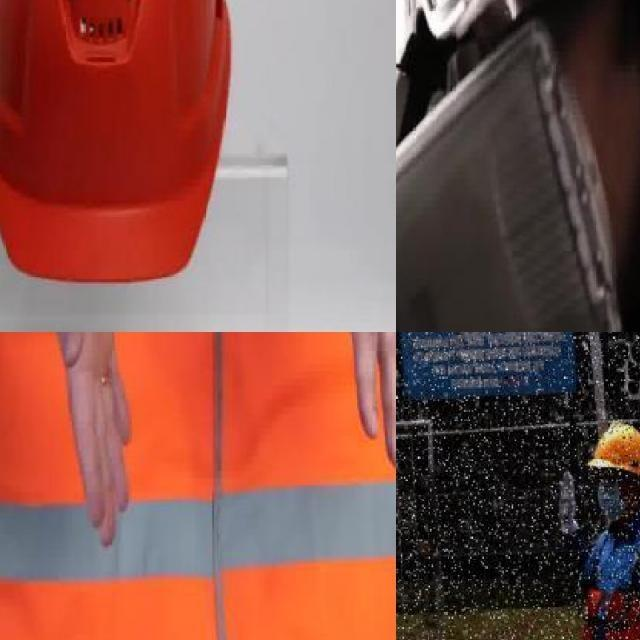apron: (553, 467, 581, 540)
